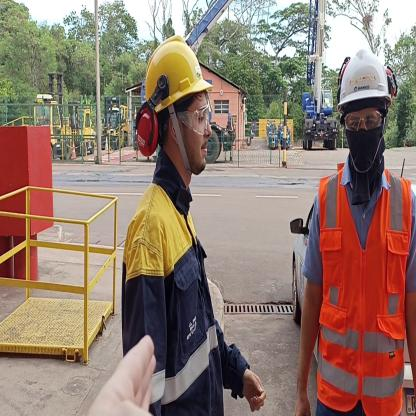Balaclava: (338, 103, 390, 191)
C_eletrica: (125, 175, 248, 416)
Capacete: (143, 34, 211, 102), (333, 44, 395, 104)
colete: (320, 178, 405, 410)
